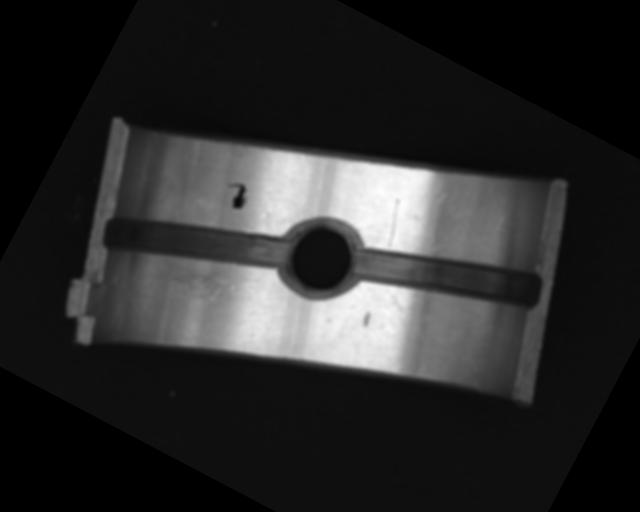blot: (218, 177, 253, 213)
bruise: (358, 309, 375, 329)
gap: (97, 163, 294, 323), (348, 198, 545, 356)
hole: (268, 203, 376, 310)
nick: (375, 197, 413, 248)
scratch: (142, 225, 262, 321)
